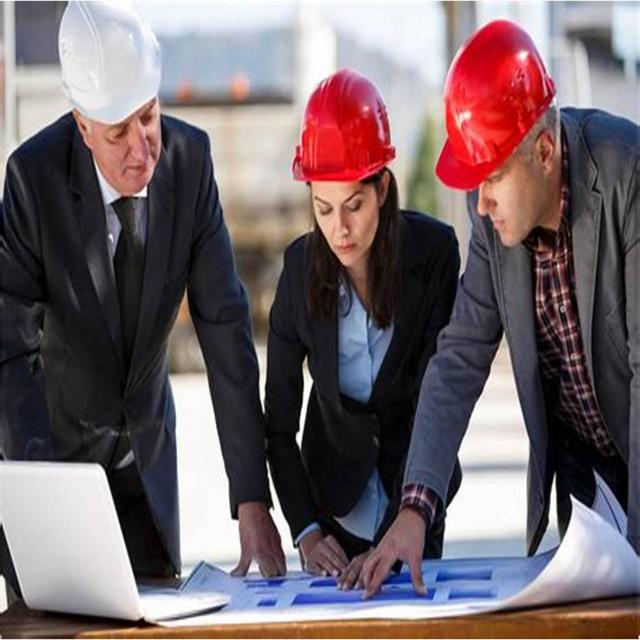red helmet: (433, 13, 567, 196), (288, 63, 399, 190)
white helmet: (51, 1, 167, 122)
